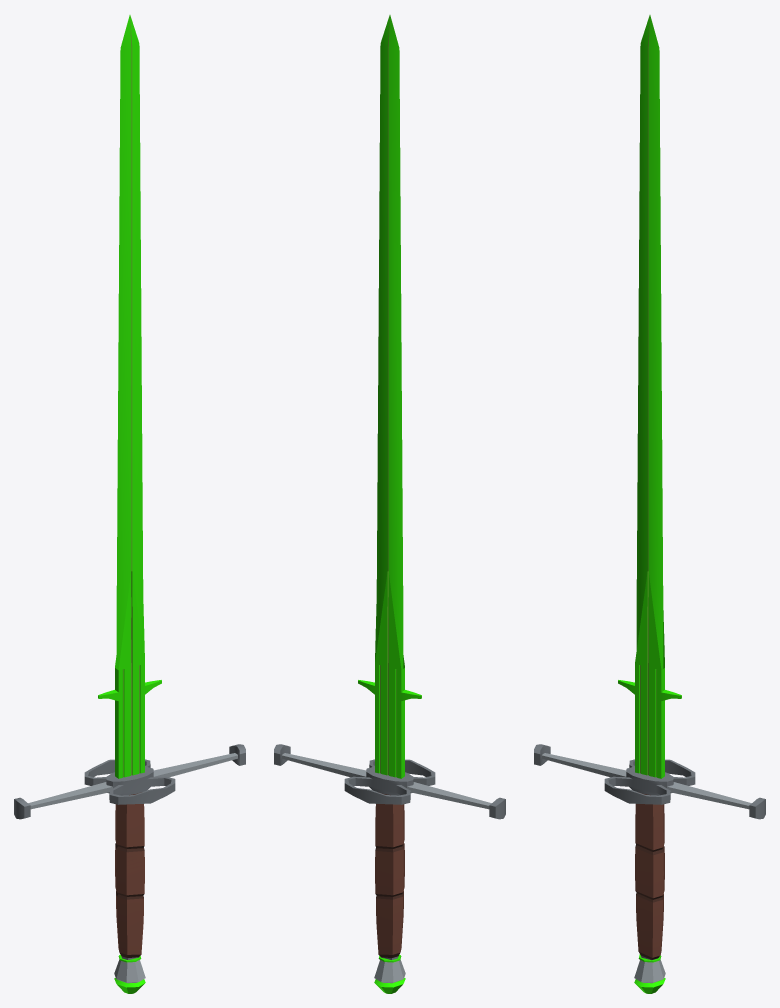
File: SM_Sword11_Montante_7FantasyGreen.fbx
3 renders of one model, left to right at view 1: azimuth 30°, elevation 25°; view 2: azimuth 150°, elevation 25°; view 3: azimuth 330°, elevation 25°, orthographic.
Parts seen in each view (by area): view 1: Cube.509, Cylinder.672, Cylinder.671, Sphere.187; view 2: Cube.509, Cylinder.672, Cylinder.671, Sphere.187; view 3: Cube.509, Cylinder.672, Cylinder.671, Sphere.187.
Boxes of the visible parts, box(x1,y1,x2,y2) form: Cube.509: box(98, 15, 161, 778); Cylinder.672: box(14, 744, 245, 819); Cylinder.671: box(115, 792, 144, 959); Sphere.187: box(114, 954, 145, 993); Cube.509: box(358, 15, 421, 778); Cylinder.672: box(274, 744, 505, 819); Cylinder.671: box(375, 792, 404, 959); Sphere.187: box(374, 954, 405, 993); Cube.509: box(618, 15, 681, 778); Cylinder.672: box(534, 744, 765, 819); Cylinder.671: box(635, 792, 664, 960); Sphere.187: box(634, 954, 665, 993).
Size of the model in its own units: 0.3597 by 1.48 by 0.1145.
